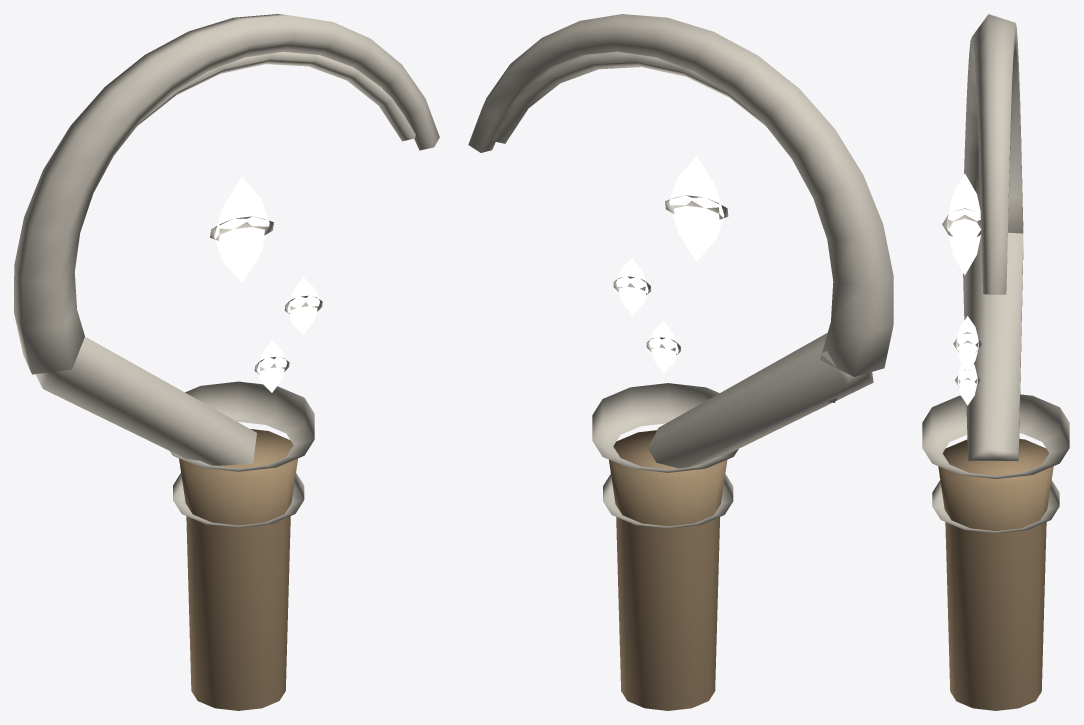
Rendered from head_rare.glb.
3 views of the same model, side by side, from view 1: azimuth 30°, elevation 25°; view 2: azimuth 150°, elevation 25°; view 3: azimuth 270°, elevation 25° (orthographic). The views are drawn at different scales.
Visible parts, largest first — view 1: head_rare; view 2: head_rare; view 3: head_rare.
Part boxes in pixels (x1=…): head_rare: x1=14, y1=14, x2=439, y2=710; head_rare: x1=468, y1=14, x2=893, y2=710; head_rare: x1=922, y1=14, x2=1069, y2=710.
Size of the model in its own units: 0.3332 by 0.5093 by 0.1044.
